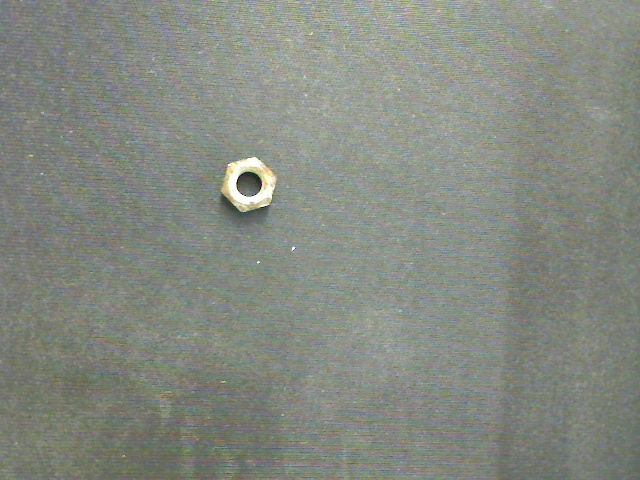Nut: (221, 156, 277, 213)
